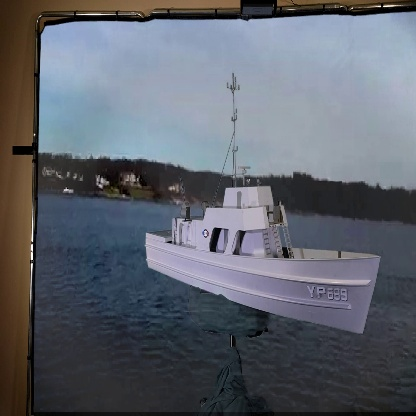YP689: (144, 76, 383, 334)
